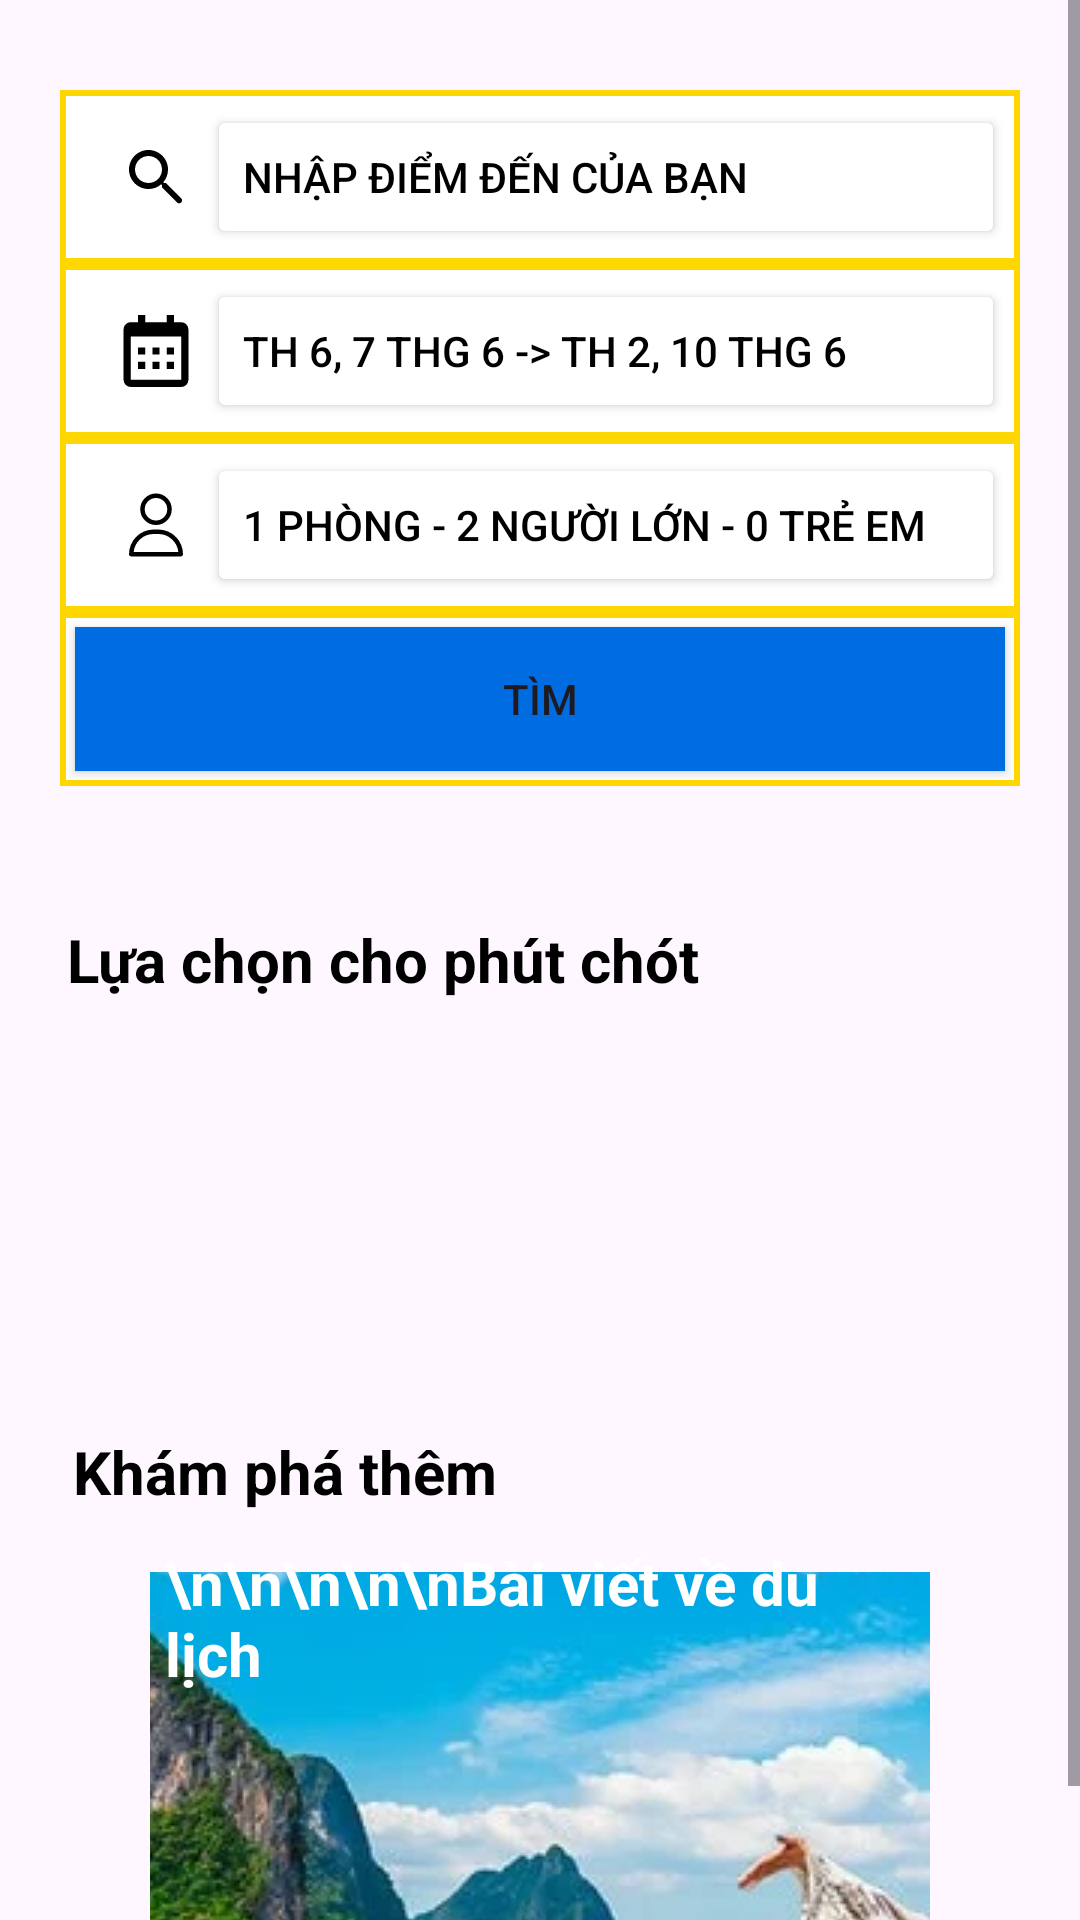

Named icons in this screenshot (1080 x 1920) and their centers, [x,y]:
calendar: [156,351]
magnifying: [155,177]
user: [156,525]
